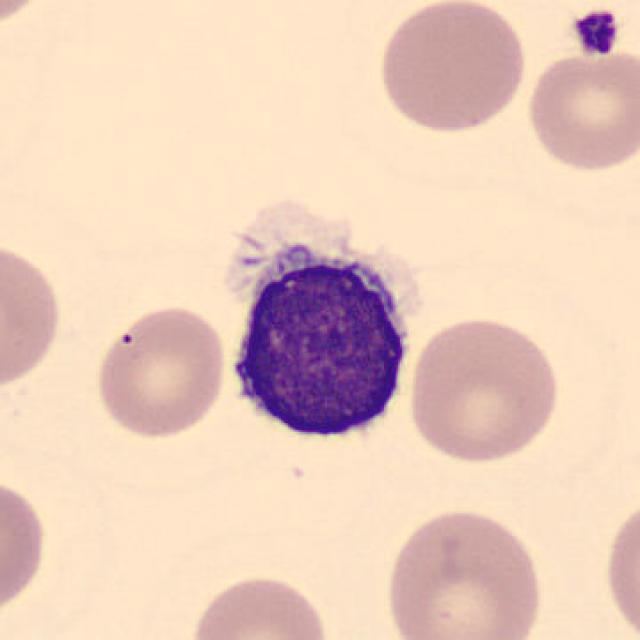Lymphocyte: (213, 197, 425, 458)
Platelets: (569, 7, 622, 58)
RBC: (404, 312, 564, 466), (380, 504, 548, 640), (373, 0, 530, 136), (91, 302, 229, 442), (523, 48, 638, 174), (0, 234, 66, 395), (185, 569, 332, 640), (0, 470, 52, 620), (601, 490, 640, 640), (0, 0, 53, 37)
